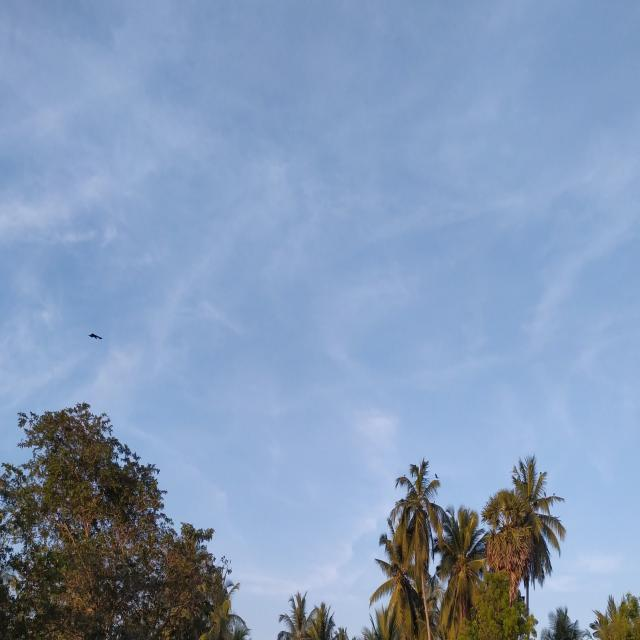bird: (86, 329, 106, 347)
